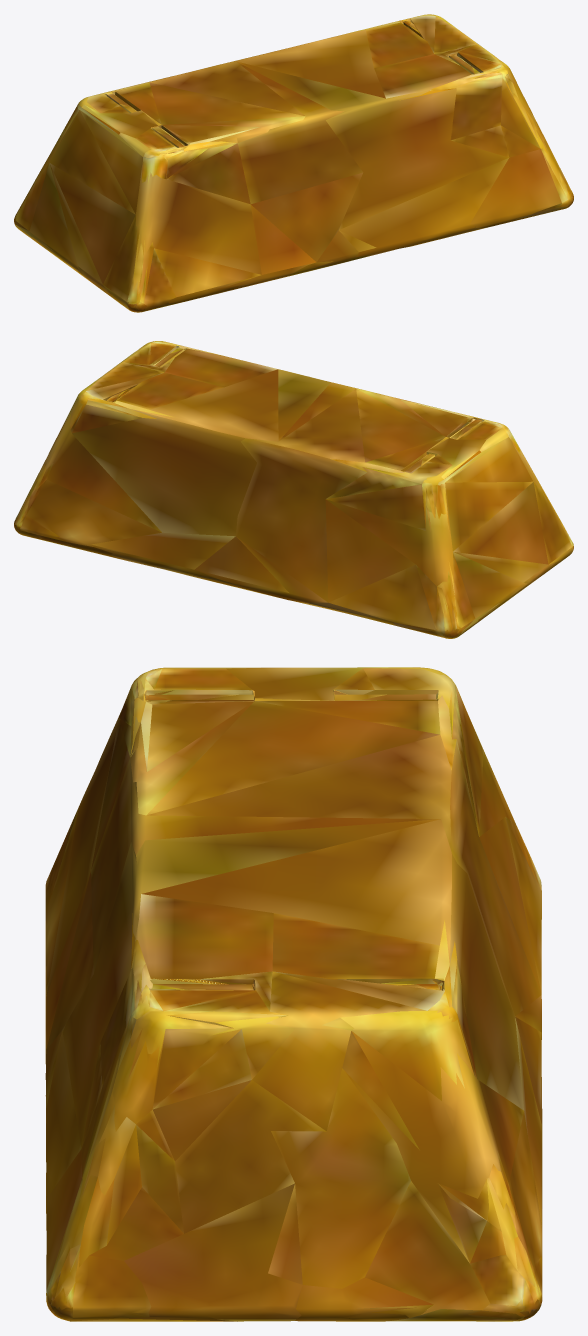
The model's file is goldbar.glb.
3 renders of one model, top to bottom at view 1: azimuth 30°, elevation 25°; view 2: azimuth 150°, elevation 25°; view 3: azimuth 270°, elevation 25°, orthographic. The views are drawn at different scales.
Size of the model in its own units: 1.9 by 0.5494 by 0.9154.
1 material, 1 textured.
